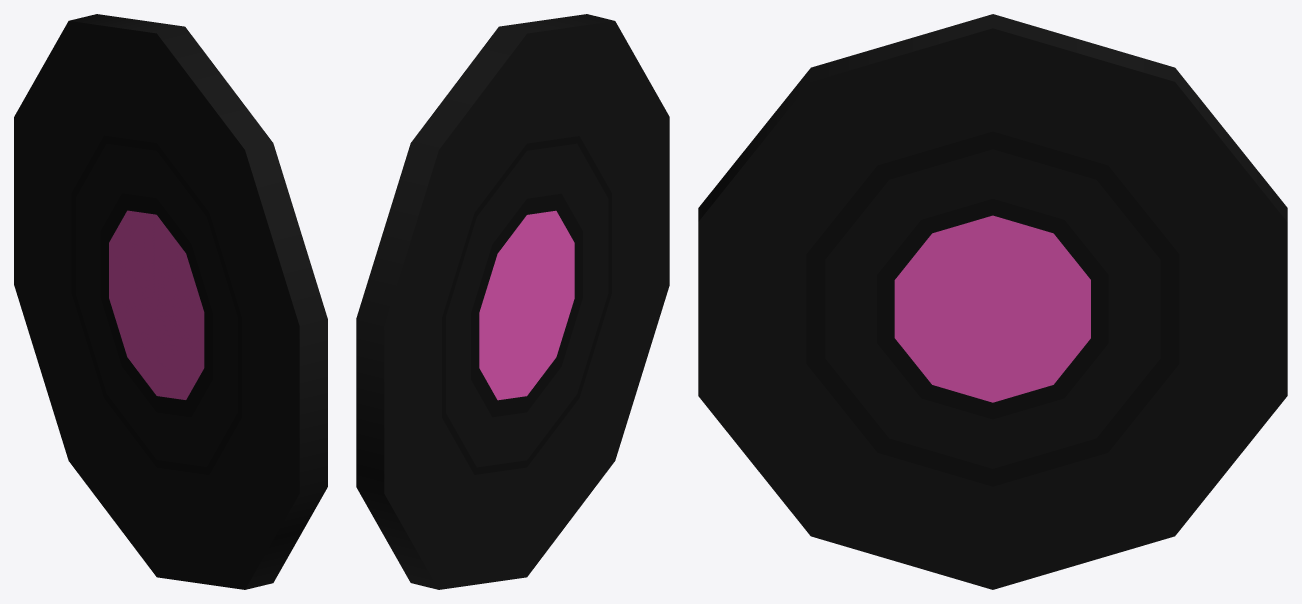
The model's file is Vinyl_Pink.FBX.
The picture shows the model from 3 angles, left to right: view 1: azimuth 30°, elevation 25°; view 2: azimuth 150°, elevation 25°; view 3: azimuth 270°, elevation 25°; orthographic projection. The views are drawn at different scales.
Parts seen in each view (by area): view 1: Vinyl_Pink; view 2: Vinyl_Pink; view 3: Vinyl_Pink.
Boxes of the visible parts, x1,y1,x2,y2 form: Vinyl_Pink: (14,14,327,589); Vinyl_Pink: (356,14,669,589); Vinyl_Pink: (698,14,1287,589).
Bounding box in the file's own units: 4.5 × 82.65 × 78.63.
